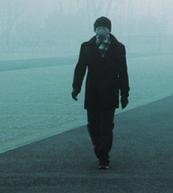person: (70, 15, 132, 171)
